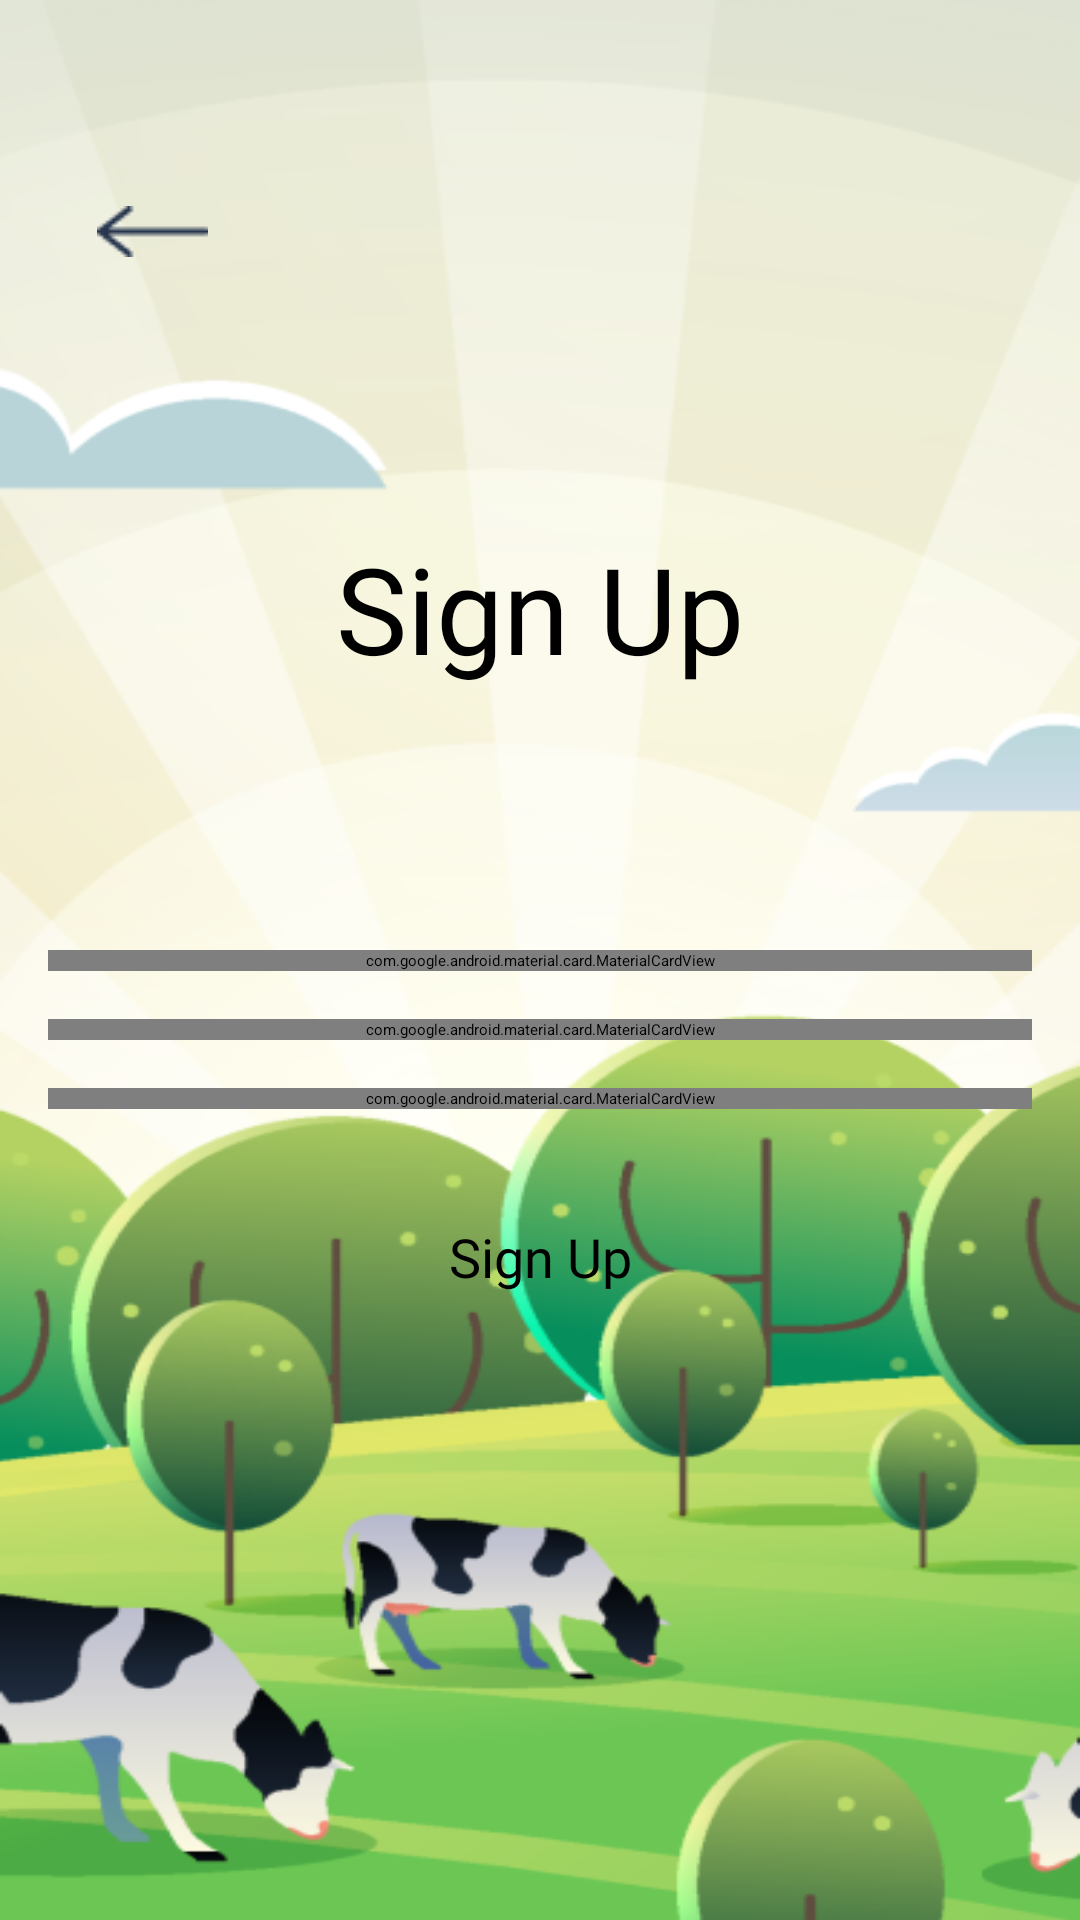

Icon bounding boxes for this 1080×1920 phone screenshot, format [x1,y1,x2,y2]:
back: [97,206,208,257]
